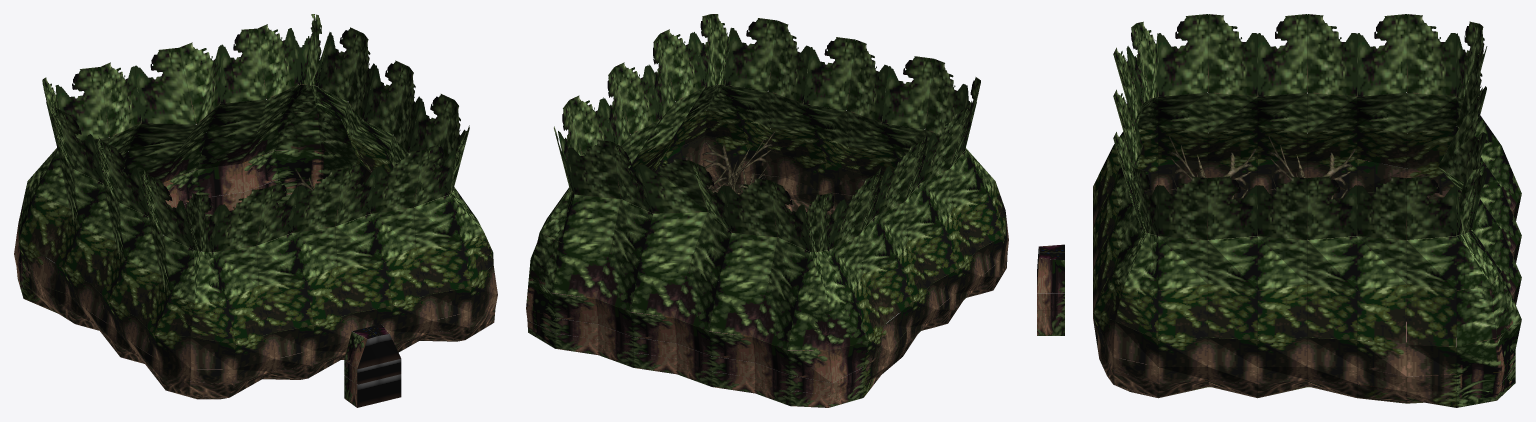
The picture shows the model from 3 angles, left to right: view 1: azimuth 30°, elevation 25°; view 2: azimuth 150°, elevation 25°; view 3: azimuth 270°, elevation 25°; orthographic projection. The views are drawn at different scales.
Visible parts, largest first — view 1: T1L6M006_26, T1L6M006_28, T1L6M006_27, T1L6M006_6, T1L6M006_25, T1L6M006_4, T1L6M006_8, T1L6M006_15, T1L6M006_20, T1L6M006_7, T1L6M006_14, T1L6M006_1 (+5 smaller); view 2: T1L6M006_4, T1L6M006_1, T1L6M006_6, T1L6M006_28, T1L6M006_0, T1L6M006_27, T1L6M006_8, T1L6M006_20, T1L6M006_15, T1L6M006_29, T1L6M006_26, T1L6M006_24 (+5 smaller); view 3: T1L6M006_14, T1L6M006_19, T1L6M006_24, T1L6M006_15, T1L6M006_20, T1L6M006_8, T1L6M006_7, T1L6M006_29, T1L6M006_4, T1L6M006_25, T1L6M006_28, T1L6M006_6 (+7 smaller).
Part boxes in pixels (left/top/right/bottom): T1L6M006_26: left=213, top=182, right=314, bottom=397; T1L6M006_28: left=370, top=144, right=471, bottom=352; T1L6M006_27: left=292, top=163, right=392, bottom=378; T1L6M006_6: left=197, top=24, right=298, bottom=217; T1L6M006_25: left=154, top=193, right=235, bottom=399; T1L6M006_4: left=123, top=42, right=221, bottom=208; T1L6M006_8: left=18, top=102, right=102, bottom=323; T1L6M006_15: left=64, top=135, right=148, bottom=356; T1L6M006_20: left=109, top=168, right=193, bottom=388; T1L6M006_7: left=276, top=14, right=357, bottom=203; T1L6M006_14: left=318, top=27, right=393, bottom=184; T1L6M006_1: left=56, top=62, right=141, bottom=202; T1L6M006_4: left=630, top=158, right=731, bottom=386; T1L6M006_1: left=709, top=178, right=809, bottom=405; T1L6M006_6: left=552, top=140, right=653, bottom=367; T1L6M006_28: left=725, top=18, right=825, bottom=237; T1L6M006_0: left=787, top=192, right=868, bottom=407; T1L6M006_27: left=803, top=37, right=897, bottom=215; T1L6M006_8: left=829, top=167, right=913, bottom=397; T1L6M006_20: left=920, top=101, right=1004, bottom=322; T1L6M006_15: left=874, top=134, right=958, bottom=355; T1L6M006_29: left=666, top=14, right=747, bottom=194; T1L6M006_26: left=881, top=56, right=966, bottom=161; T1L6M006_24: left=629, top=29, right=705, bottom=172; T1L6M006_14: left=1357, top=176, right=1456, bottom=407; T1L6M006_19: left=1257, top=176, right=1357, bottom=397; T1L6M006_24: left=1158, top=176, right=1257, bottom=397; T1L6M006_15: left=1257, top=14, right=1357, bottom=200; T1L6M006_20: left=1158, top=14, right=1257, bottom=200; T1L6M006_8: left=1357, top=14, right=1456, bottom=240; T1L6M006_7: left=1456, top=168, right=1521, bottom=407; T1L6M006_29: left=1093, top=165, right=1158, bottom=397; T1L6M006_4: left=1438, top=87, right=1521, bottom=262; T1L6M006_25: left=1127, top=21, right=1158, bottom=196; T1L6M006_28: left=1093, top=131, right=1142, bottom=358; T1L6M006_6: left=1459, top=131, right=1521, bottom=304.
Size of the model in its own units: 17.25 by 10.19 by 19.5.
